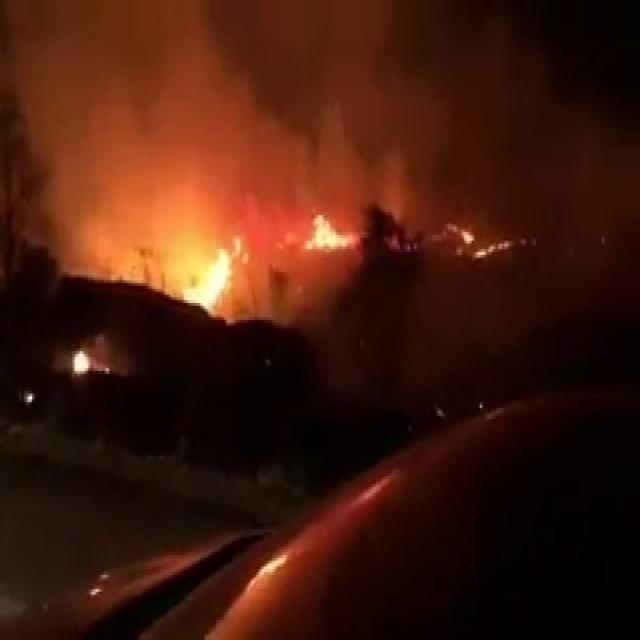Fire: (184, 247, 232, 314), (304, 204, 362, 258), (69, 348, 93, 379)
Smoke: (21, 26, 424, 332)
